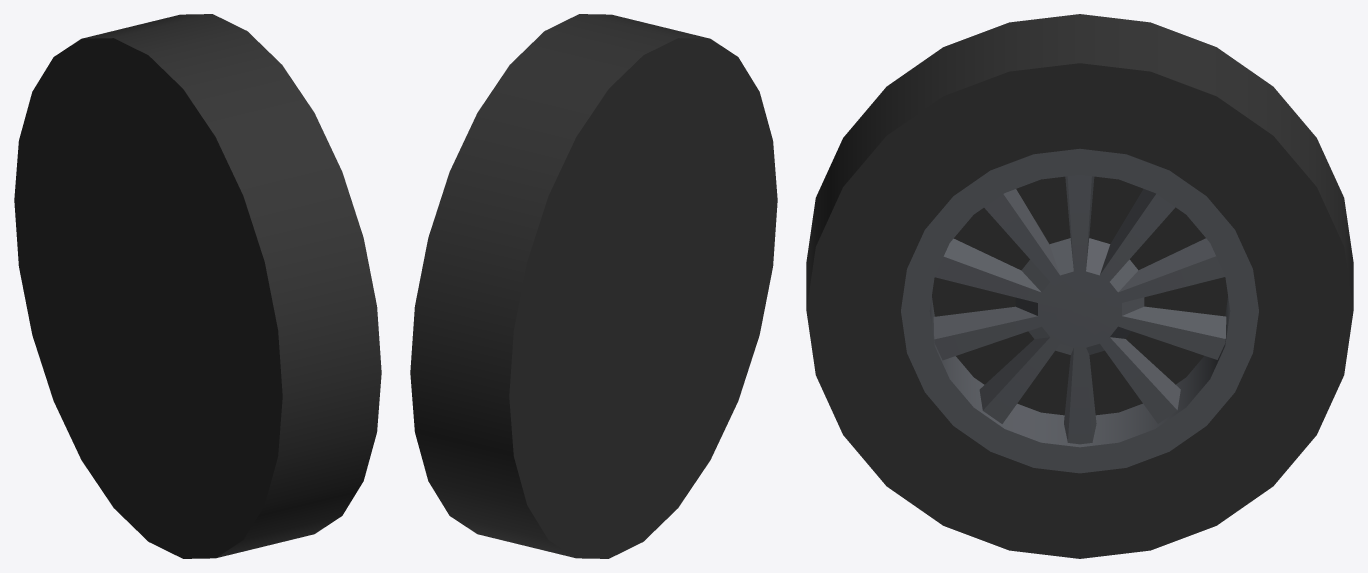
The model's file is skinny.glb.
3 views of the same model, side by side, from view 1: azimuth 30°, elevation 25°; view 2: azimuth 150°, elevation 25°; view 3: azimuth 270°, elevation 25° (orthographic).
Parts seen in each view (by area): view 1: WHEEL.015; view 2: WHEEL.015; view 3: WHEEL.015.
Part boxes in pixels (x1,y1,x2,y2): WHEEL.015: [14, 14, 381, 558]; WHEEL.015: [410, 14, 777, 558]; WHEEL.015: [806, 14, 1353, 558].
Size of the model in its own units: 0.1384 by 0.6502 by 0.6502.
1 material, 1 textured.
